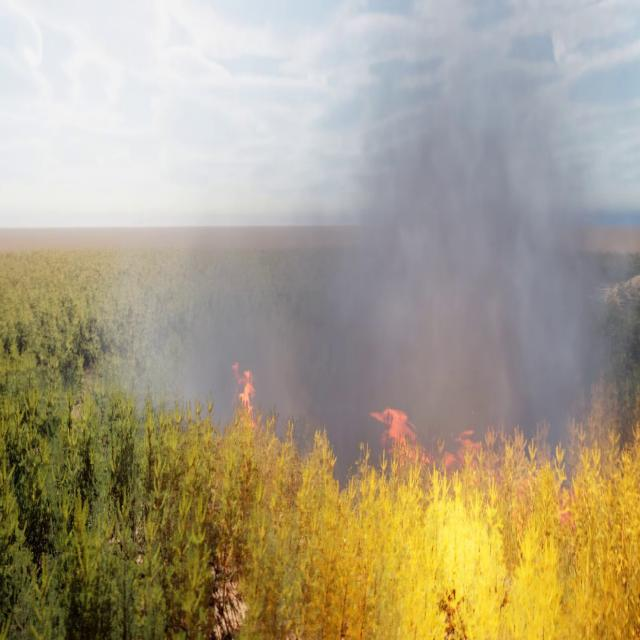fire: (306, 449, 640, 639), (369, 397, 486, 477), (226, 361, 257, 424)
smoke: (115, 0, 629, 477)
